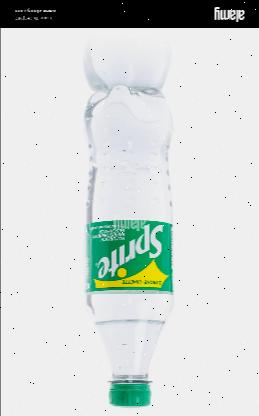Plastic Bottle: (68, 76, 186, 412)
